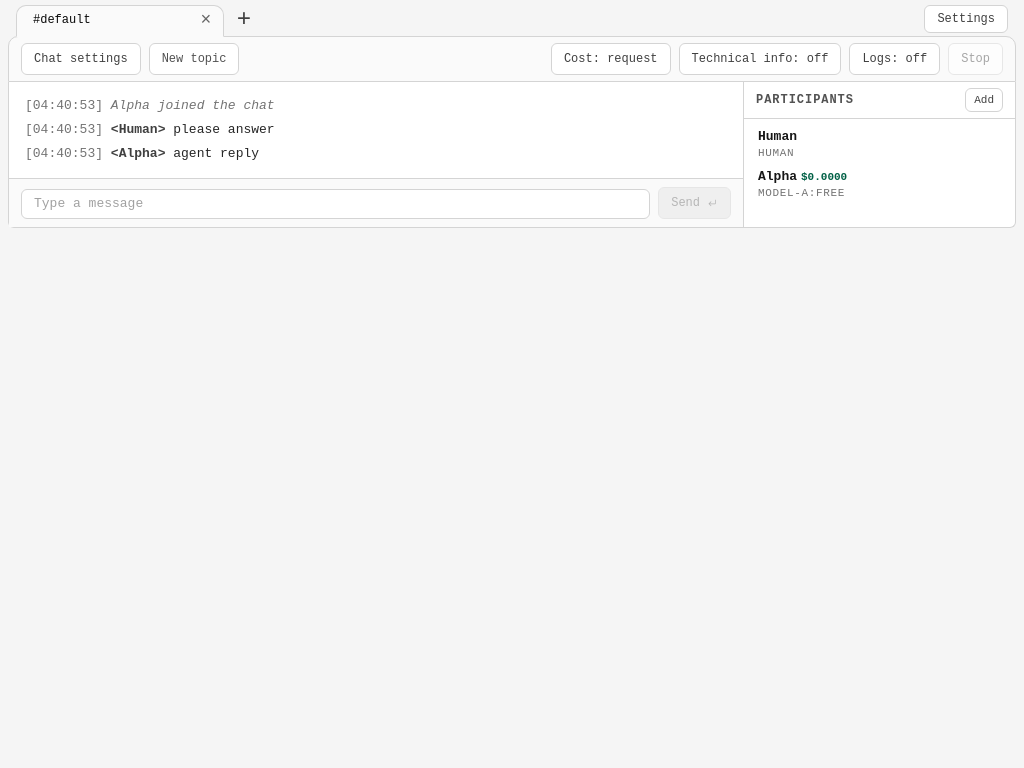
Test: MultiAgentChat request inspection › opens inspector for an agent message showing model and system prompt on Participant tab
Click the button with class "chat-line-time-active" next to "<Alpha>" at [64, 154], box [25,146,103,161]
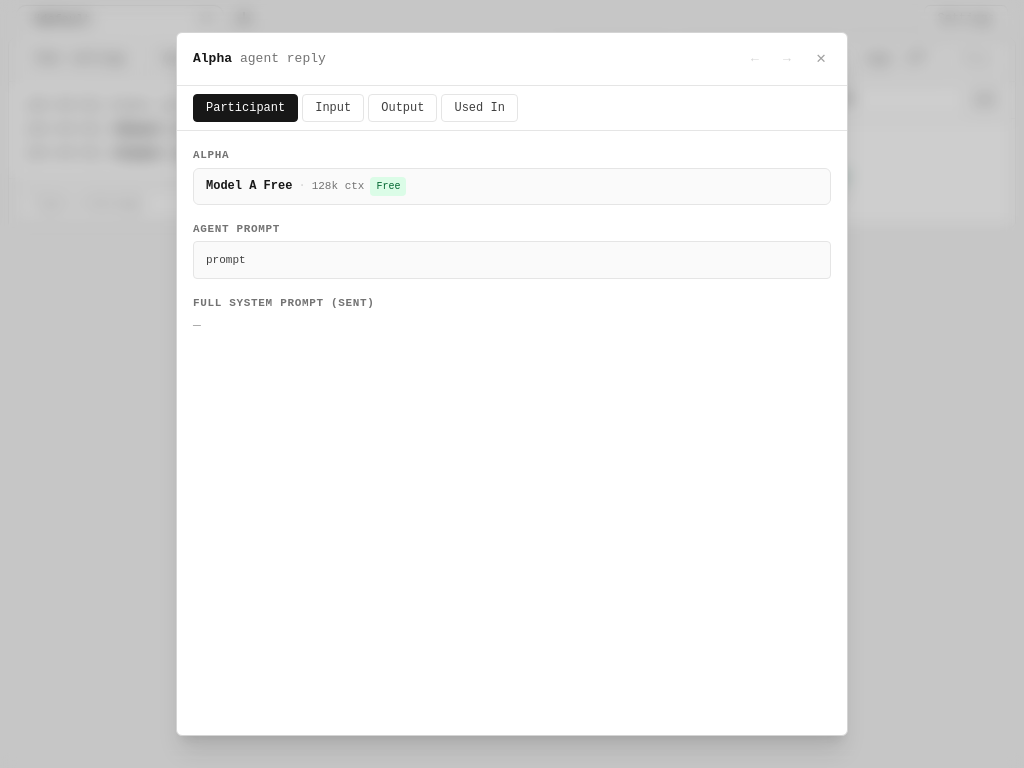
expect the text "model-a:free" is shown: met, box [758,185,847,201]
expect the text "Agent Prompt" is shown: met, box [193,222,280,234]
